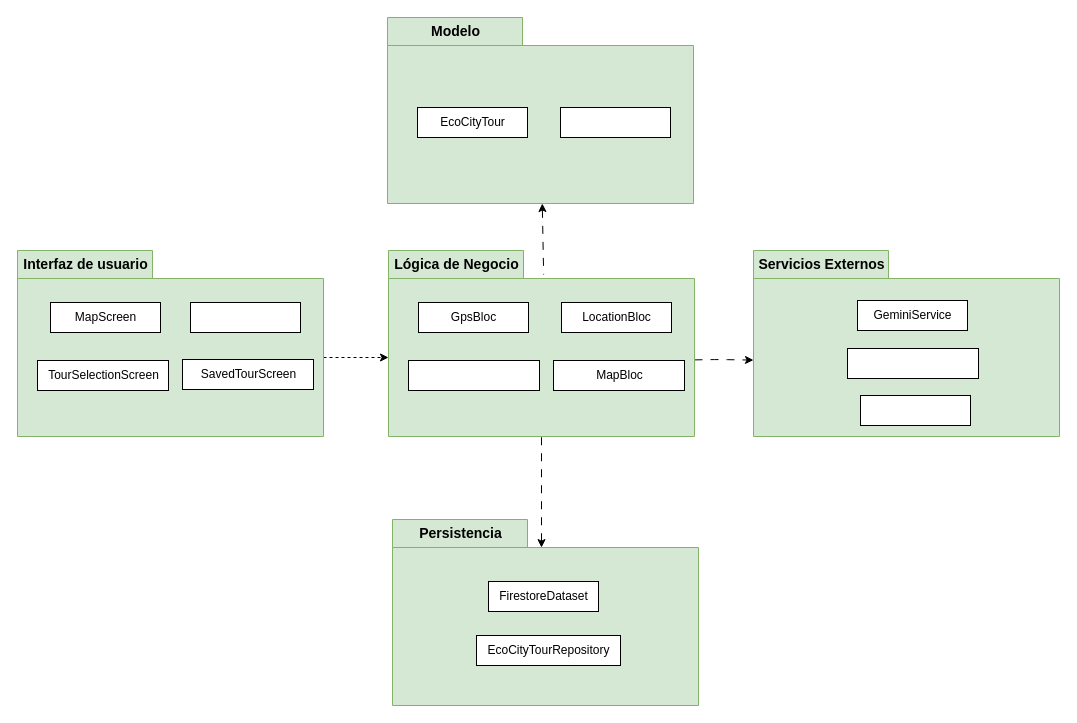
This 1077x723 diagram has some shape labels left out. The centre of each missing label's shape, as x and y in pixels:
"OptimizationService" goes at point 915,410.
"PlacesService" goes at point 912,363.
"PointOfInterest" goes at point 615,122.
"TourBloc" goes at point 474,375.
"TourSumaryScreen" goes at point 245,317.
